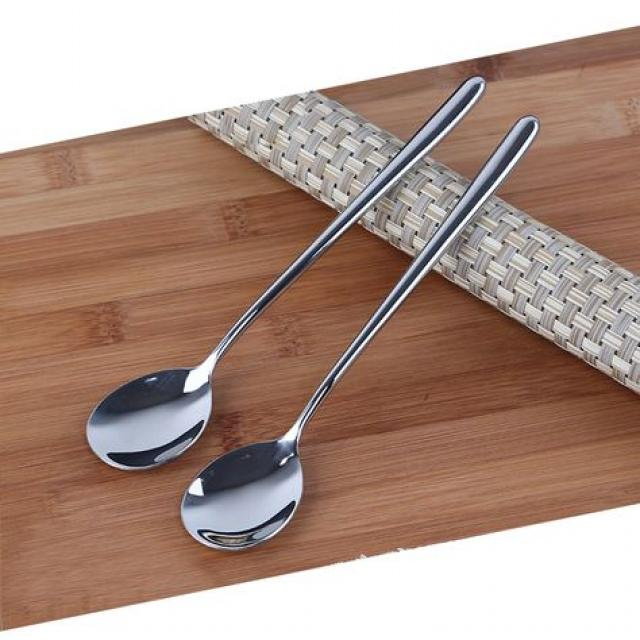spoon: (61, 66, 497, 486), (160, 107, 549, 568)
